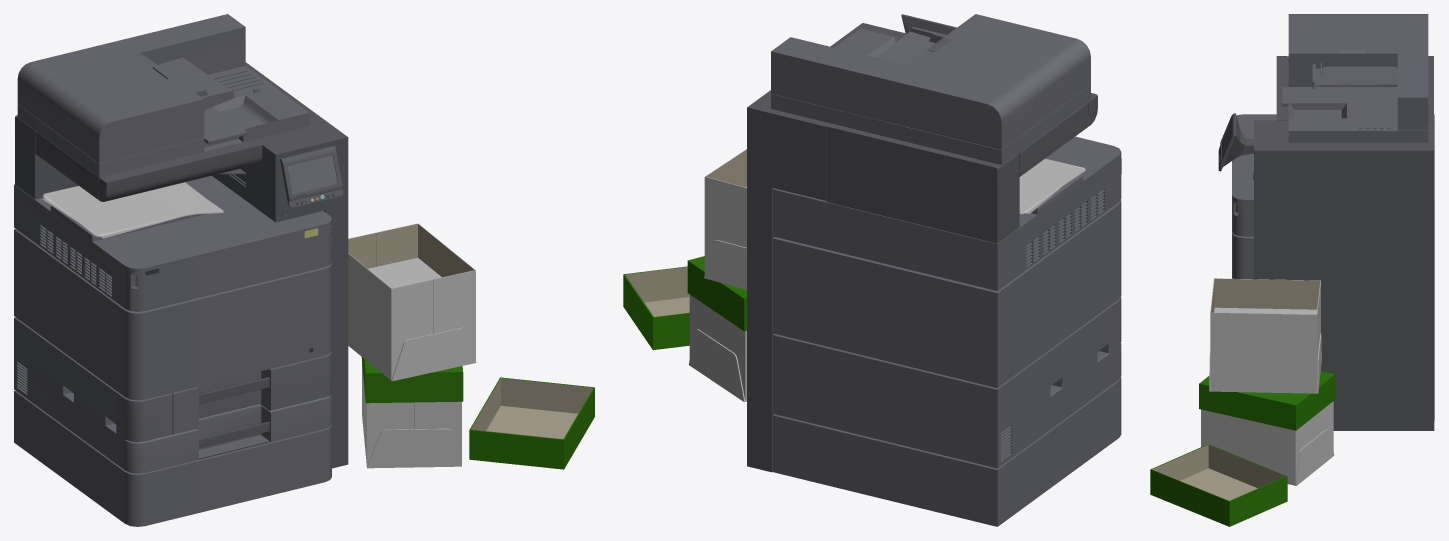
Rendered from printer.fbx.
3 renders of one model, left to right at view 1: azimuth 30°, elevation 25°; view 2: azimuth 150°, elevation 25°; view 3: azimuth 270°, elevation 25°, orthographic. The views are drawn at different scales.
Parts seen in each view (by area): view 1: pCube1, pCube4, pCube6, pCube2, polySurface3, pCube3, pCube7, pPlane9, polySurface1; view 2: pCube1, pCube4, pCube3, pCube2, pCube6, polySurface3, pCube7, polySurface1, pPlane9; view 3: pCube2, pCube4, pCube6, polySurface3, pCube7, polySurface1, pCube1, pCube3.
Part boxes in pixels (x1=…): pCube1: x1=14, y1=175, x2=332, y2=526; pCube4: x1=17, y1=14, x2=309, y2=177; pCube6: x1=348, y1=223, x2=476, y2=381; pCube2: x1=212, y1=62, x2=348, y2=468; polySurface3: x1=469, y1=377, x2=594, y2=469; pCube3: x1=15, y1=115, x2=262, y2=201; pCube7: x1=362, y1=362, x2=461, y2=468; pPlane9: x1=42, y1=182, x2=223, y2=238; polySurface1: x1=361, y1=357, x2=463, y2=403; pCube1: x1=772, y1=136, x2=1121, y2=526; pCube4: x1=771, y1=14, x2=1090, y2=164; pCube3: x1=826, y1=93, x2=1097, y2=243; pCube2: x1=747, y1=14, x2=956, y2=472; pCube6: x1=704, y1=149, x2=746, y2=289; polySurface3: x1=623, y1=266, x2=689, y2=349; pCube7: x1=689, y1=295, x2=746, y2=402; polySurface1: x1=687, y1=256, x2=746, y2=331; pPlane9: x1=1019, y1=158, x2=1085, y2=214; pCube2: x1=1218, y1=113, x2=1434, y2=430; pCube4: x1=1282, y1=14, x2=1428, y2=142; pCube6: x1=1209, y1=278, x2=1321, y2=393; polySurface3: x1=1150, y1=444, x2=1287, y2=526; pCube7: x1=1201, y1=401, x2=1334, y2=485; polySurface1: x1=1199, y1=371, x2=1335, y2=430; pCube1: x1=1232, y1=114, x2=1434, y2=420; pCube3: x1=1276, y1=56, x2=1433, y2=120.
Bounding box in the file's own units: 3.51 × 2.77 × 2.18.
